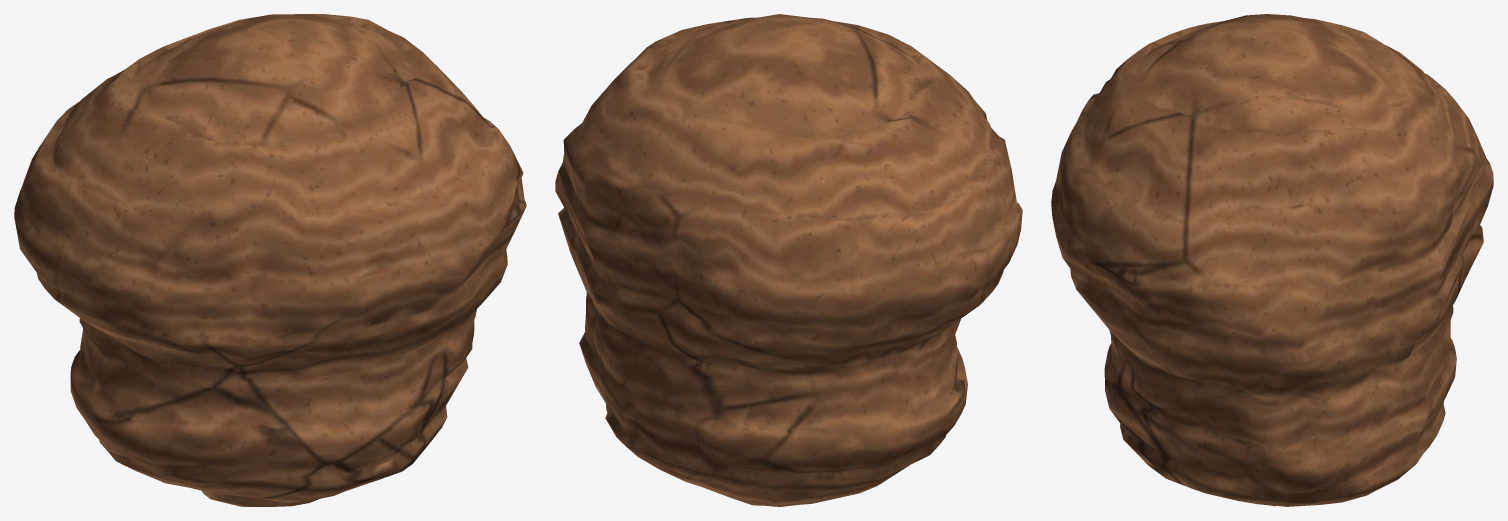
The model's file is rock_desert.glb.
3 renders of one model, left to right at view 1: azimuth 30°, elevation 25°; view 2: azimuth 150°, elevation 25°; view 3: azimuth 270°, elevation 25°, orthographic. The views are drawn at different scales.
Visible parts, largest first — view 1: rock_desert; view 2: rock_desert; view 3: rock_desert.
Part boxes in pixels (box(x1,y1,x2,y2)): rock_desert: box(14, 14, 526, 506); rock_desert: box(555, 14, 1022, 506); rock_desert: box(1051, 14, 1493, 506).
Size of the model in its own units: 2.07 by 2.04 by 1.81.
1 material, 1 textured.
